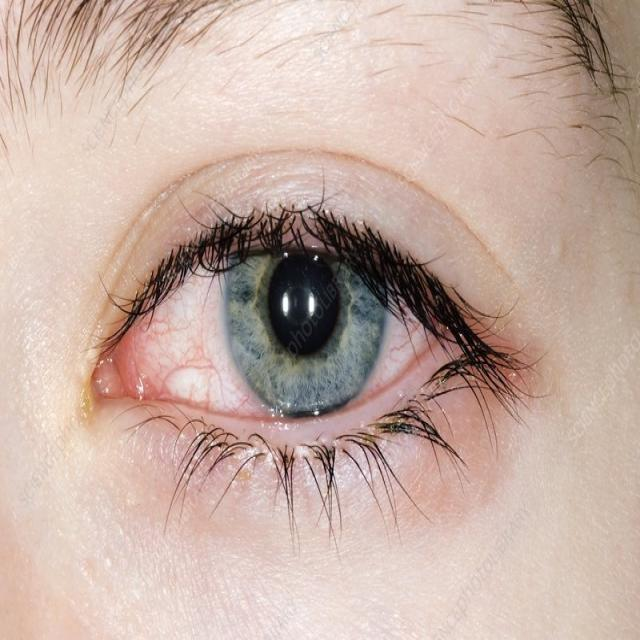Conjunctivitis: (78, 250, 440, 434)
